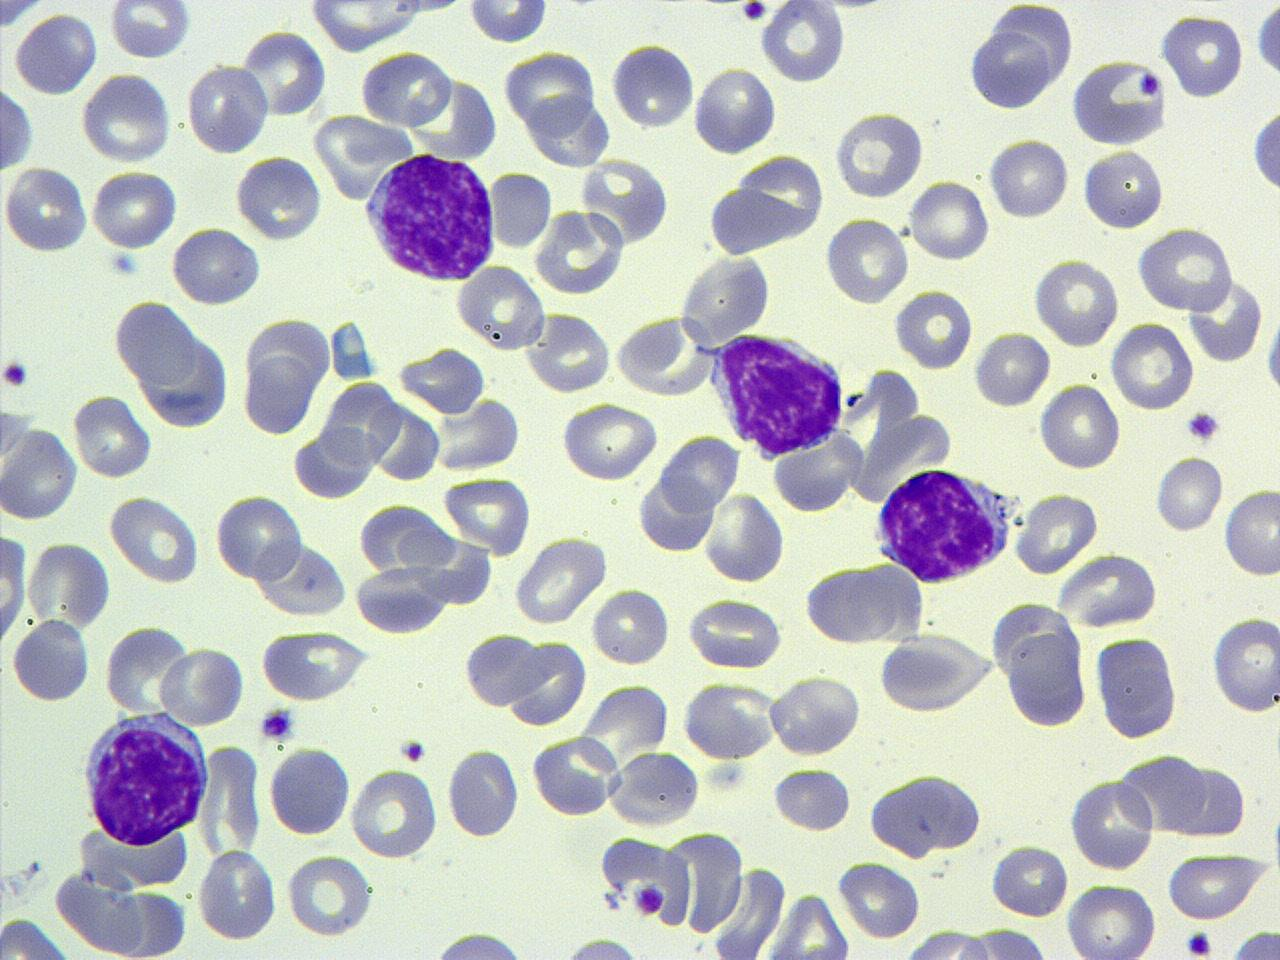Platelets: (327, 318, 380, 381), (554, 933, 646, 960), (1253, 2, 1279, 81), (256, 704, 297, 743), (1263, 316, 1280, 397), (634, 880, 668, 916), (1184, 409, 1222, 442), (1, 357, 32, 389), (1184, 928, 1214, 958), (108, 250, 139, 278), (398, 736, 428, 764), (1137, 71, 1165, 99), (739, 1, 769, 23), (1270, 811, 1280, 872), (597, 890, 624, 913)
RBC: (714, 148, 826, 255), (1004, 616, 1090, 732), (878, 632, 995, 716), (675, 253, 775, 351), (660, 827, 748, 937), (614, 312, 718, 401), (1093, 634, 1179, 740), (1070, 55, 1170, 146), (80, 70, 175, 163), (107, 492, 203, 586), (799, 562, 905, 646), (596, 834, 692, 926), (511, 536, 608, 628), (1136, 225, 1236, 314), (257, 626, 371, 704), (212, 489, 305, 582), (348, 766, 439, 861), (454, 262, 550, 352), (680, 678, 781, 763), (831, 108, 925, 200), (577, 156, 672, 246), (1068, 774, 1156, 872), (559, 399, 660, 482), (1108, 320, 1198, 411), (309, 111, 402, 201), (1, 163, 91, 256), (502, 49, 598, 136), (534, 206, 626, 295), (1031, 256, 1121, 348), (184, 61, 270, 155), (1054, 552, 1160, 628), (769, 429, 861, 516), (233, 154, 325, 242), (1012, 488, 1104, 576), (824, 213, 910, 307), (266, 743, 351, 838), (768, 674, 862, 758), (196, 846, 278, 942), (964, 25, 1052, 114), (610, 39, 696, 130), (530, 732, 622, 818), (692, 64, 778, 155), (12, 8, 100, 97), (286, 852, 375, 940), (90, 166, 180, 252), (1, 423, 79, 522), (606, 748, 702, 828), (198, 742, 265, 856), (25, 541, 111, 630), (1160, 9, 1244, 101), (243, 27, 328, 117), (1038, 380, 1122, 471), (508, 636, 588, 731), (9, 615, 93, 705), (686, 595, 785, 671), (253, 538, 349, 616), (1064, 881, 1160, 959), (987, 134, 1071, 222), (441, 474, 532, 556), (703, 492, 784, 584), (170, 227, 263, 307), (1121, 749, 1207, 834), (1079, 146, 1167, 230), (524, 312, 613, 394), (71, 391, 153, 480), (158, 644, 245, 728), (1210, 612, 1280, 716), (358, 49, 449, 128), (836, 858, 922, 940), (446, 744, 520, 840), (892, 285, 974, 371), (525, 90, 613, 169), (432, 395, 522, 473), (760, 1, 846, 82), (590, 582, 670, 668), (1186, 274, 1264, 363), (908, 178, 990, 262), (351, 566, 445, 636), (971, 328, 1051, 410), (1164, 851, 1260, 921), (755, 892, 853, 959), (462, 632, 542, 711), (991, 840, 1071, 919), (239, 354, 315, 437), (397, 345, 487, 414), (1153, 451, 1225, 534), (306, 0, 422, 51), (770, 764, 854, 833), (1173, 762, 1247, 840), (1222, 483, 1280, 579), (488, 167, 554, 250), (108, 0, 190, 61), (465, 0, 549, 45), (947, 925, 1057, 959), (327, 317, 380, 382), (0, 84, 37, 173), (0, 914, 73, 958), (0, 530, 27, 648), (903, 926, 995, 960)
WBC: (361, 149, 499, 284), (79, 709, 213, 848), (872, 463, 1022, 586), (711, 331, 847, 458), (115, 298, 238, 428), (706, 151, 830, 256), (992, 598, 1091, 728), (866, 772, 985, 862), (674, 250, 776, 352), (1092, 631, 1182, 740), (803, 560, 919, 644), (616, 312, 720, 401), (1, 407, 81, 523), (1073, 57, 1173, 149), (263, 629, 371, 704), (237, 152, 328, 240), (174, 226, 268, 308), (12, 9, 98, 98), (506, 634, 586, 728), (608, 750, 703, 828), (414, 926, 546, 958), (0, 86, 37, 174), (1250, 98, 1280, 202), (1228, 925, 1280, 960)
